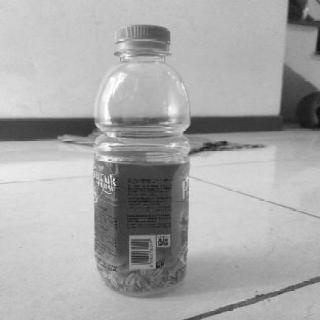plastic_bottles: (90, 22, 196, 300)
